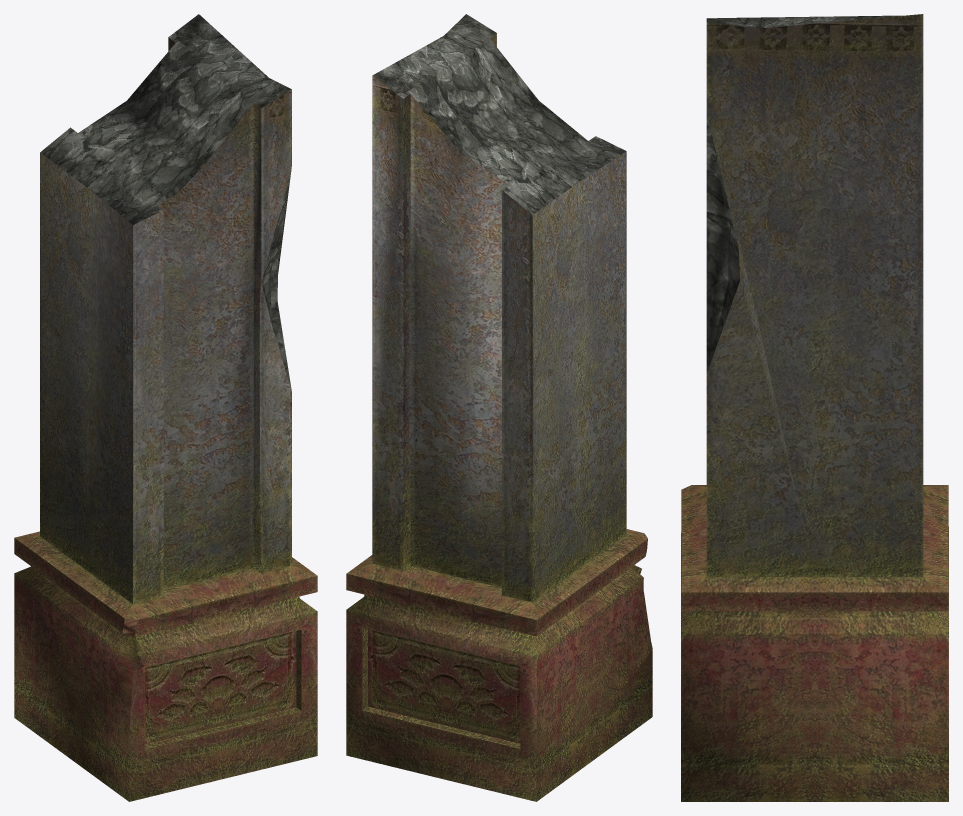
File: fortressa_pillar_01.glb
The picture shows the model from 3 angles, left to right: view 1: azimuth 30°, elevation 25°; view 2: azimuth 150°, elevation 25°; view 3: azimuth 270°, elevation 25°; orthographic projection. The views are drawn at different scales.
Visible parts, largest first — view 1: fortressA_pillar_01; view 2: fortressA_pillar_01; view 3: fortressA_pillar_01.
Boxes of the visible parts, left/top/right/bottom form: fortressA_pillar_01: left=14, top=14, right=317, bottom=801; fortressA_pillar_01: left=346, top=14, right=652, bottom=801; fortressA_pillar_01: left=681, top=14, right=948, bottom=801.
Size of the model in its own units: 3.94 by 13.37 by 4.16.
Materials: 2 (2 with a texture image).
